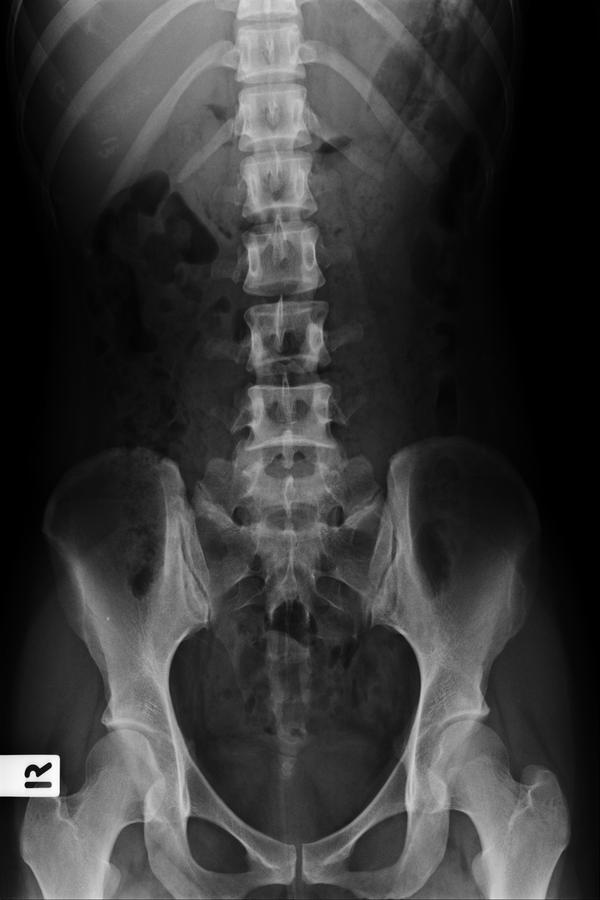not lumbar scoliosis: (230, 170, 341, 536)
